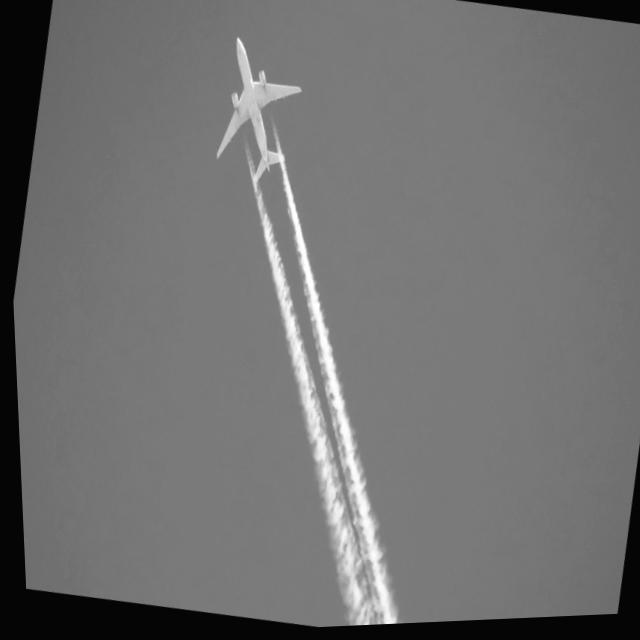aeroplane: (198, 24, 316, 215)
